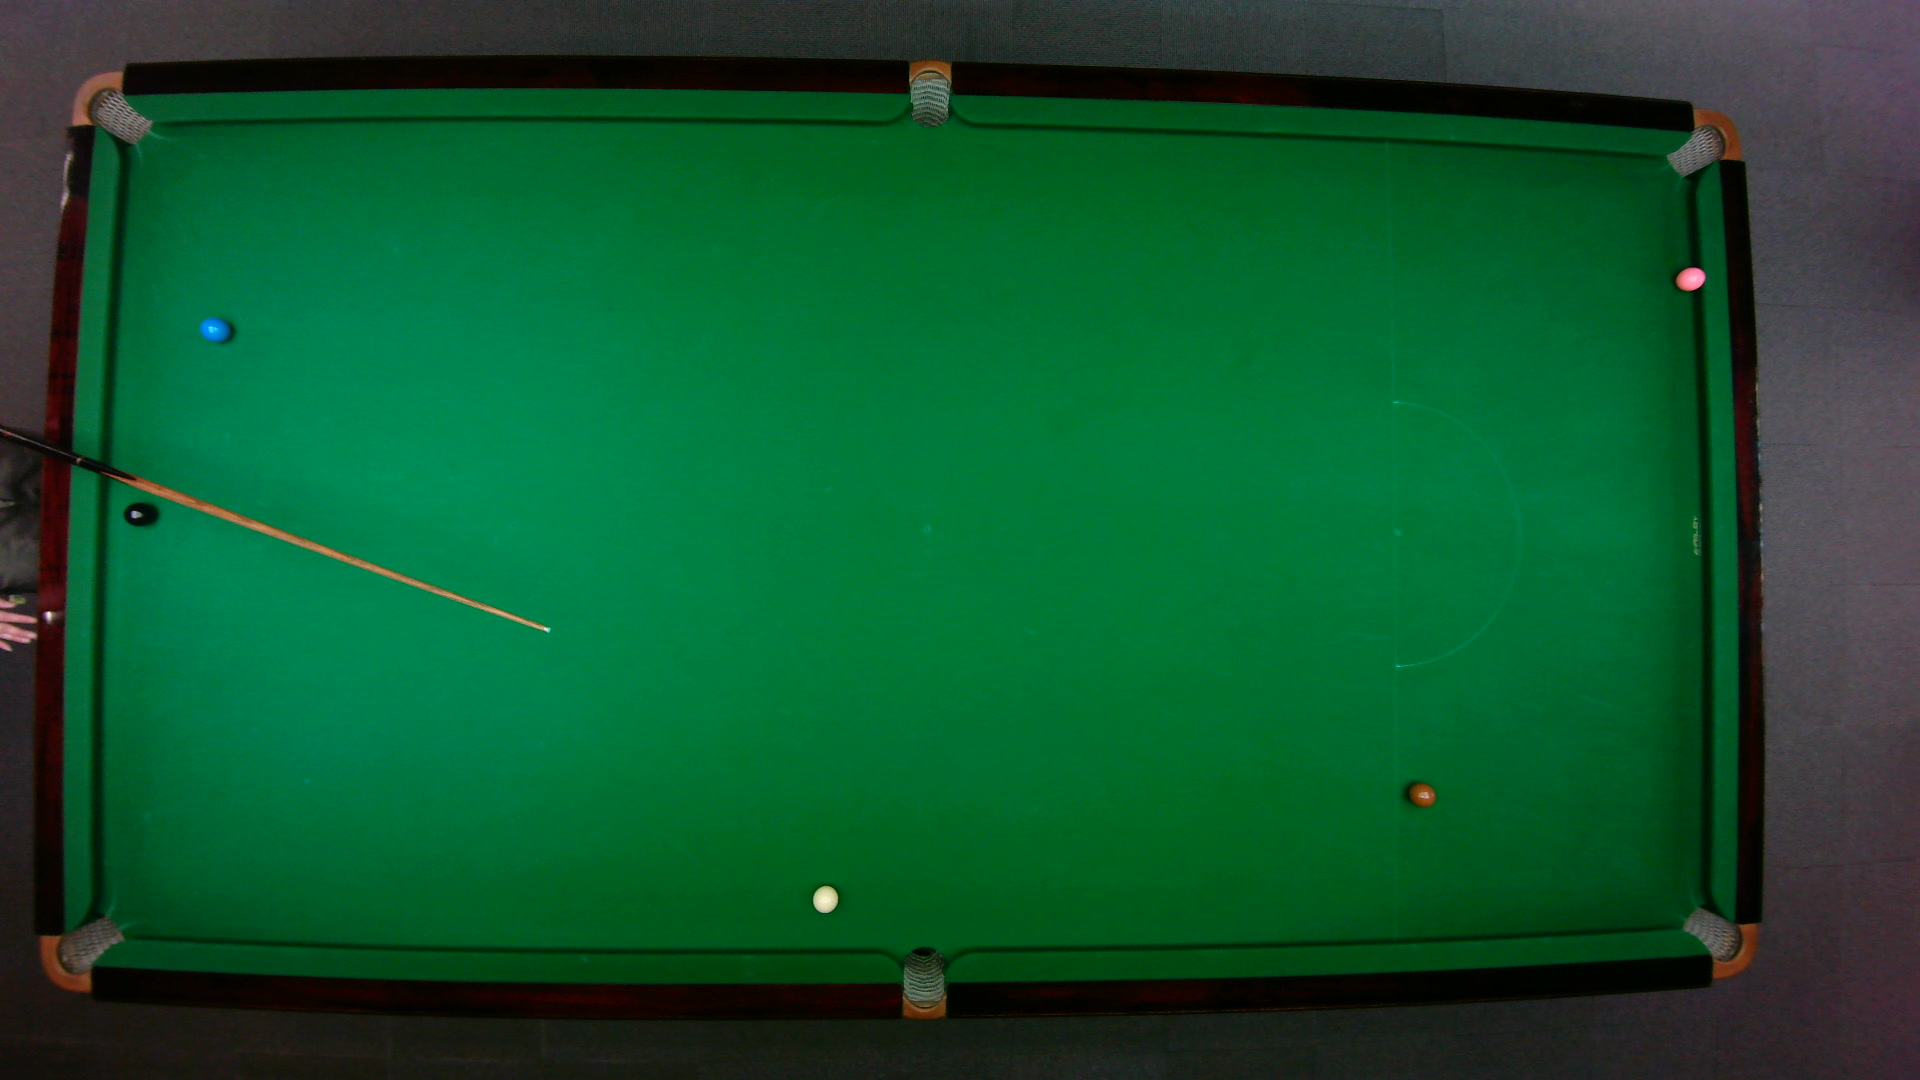bag: (37, 913, 125, 992), (67, 69, 153, 144), (1679, 905, 1756, 978), (1663, 107, 1742, 177), (901, 944, 944, 1021), (909, 57, 949, 128)
black: (123, 501, 153, 526)
blue: (196, 315, 231, 342)
brown: (1406, 781, 1436, 806)
cue: (0, 415, 553, 636)
pink: (1673, 264, 1706, 291)
white: (808, 884, 839, 913)
zone: (1391, 400, 1520, 669)
